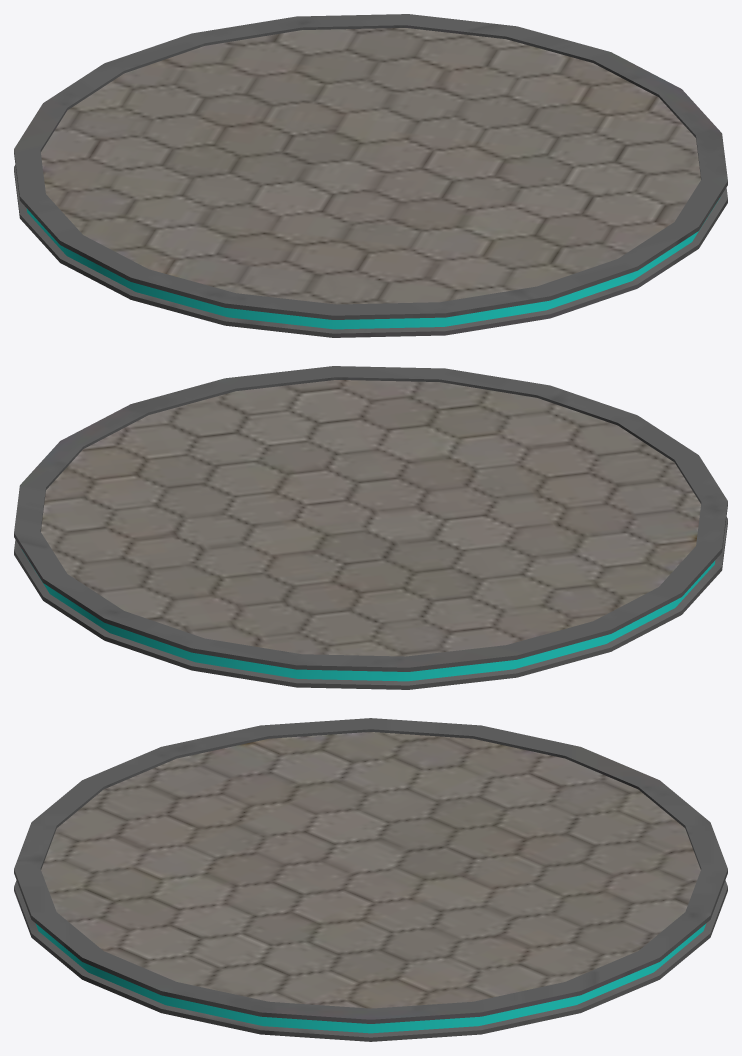
File: exhibit.glb
The picture shows the model from 3 angles, top to bottom: view 1: azimuth 30°, elevation 25°; view 2: azimuth 150°, elevation 25°; view 3: azimuth 270°, elevation 25°; orthographic projection.
Parts seen in each view (by area): view 1: pCylinder1_defaultPolygonShader1_0; view 2: pCylinder1_defaultPolygonShader1_0; view 3: pCylinder1_defaultPolygonShader1_0.
Part boxes in pixels (left/top/right/bottom): pCylinder1_defaultPolygonShader1_0: left=14, top=14, right=727, bottom=337; pCylinder1_defaultPolygonShader1_0: left=14, top=366, right=727, bottom=689; pCylinder1_defaultPolygonShader1_0: left=14, top=718, right=727, bottom=1041.
Size of the model in its own units: 166905 by 5705 by 166905.
1 material, 1 textured.
